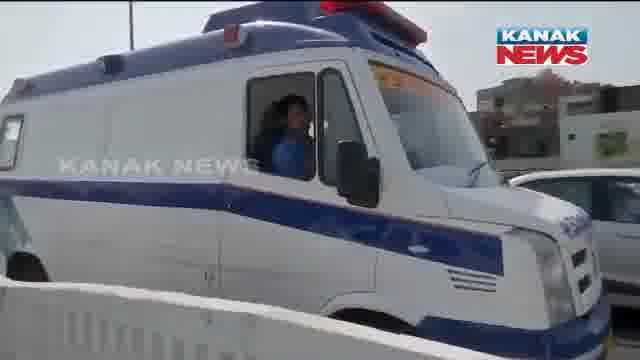AMBULANCE: (3, 0, 624, 359)
